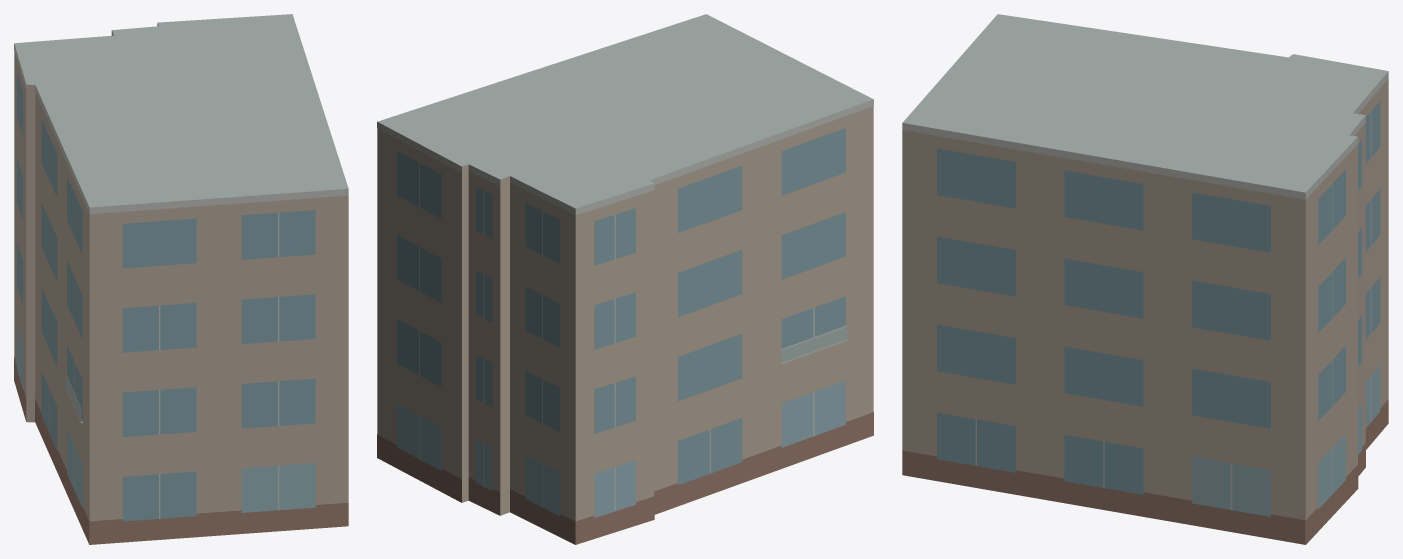
File: survey-upis-32954595.glb
3 views of the same model, side by side, from view 1: azimuth 30°, elevation 25°; view 2: azimuth 150°, elevation 25°; view 3: azimuth 270°, elevation 25° (orthographic). The views are drawn at different scales.
Parts seen in each view (by area): view 1: survey-upis-32954595.tmp; view 2: survey-upis-32954595.tmp; view 3: survey-upis-32954595.tmp.
Boxes of the visible parts, x1=… form: survey-upis-32954595.tmp: x1=14, y1=14, x2=348, y2=544; survey-upis-32954595.tmp: x1=377, y1=14, x2=873, y2=544; survey-upis-32954595.tmp: x1=902, y1=14, x2=1388, y2=544.
Bounding box in the file's own units: 13.28 × 12.2 × 15.27.
